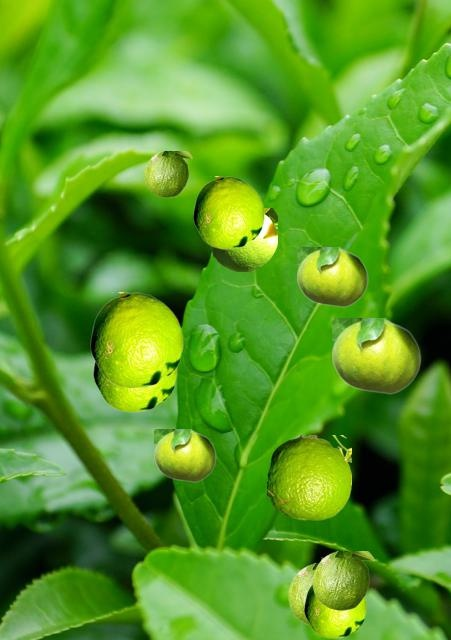dalandan: (90, 292, 182, 387), (267, 435, 350, 519), (332, 318, 420, 393), (193, 176, 263, 248), (297, 247, 367, 306), (93, 362, 176, 411), (211, 208, 276, 270), (312, 551, 373, 609), (304, 584, 365, 637), (154, 429, 215, 481), (144, 151, 191, 196), (288, 563, 317, 625)
